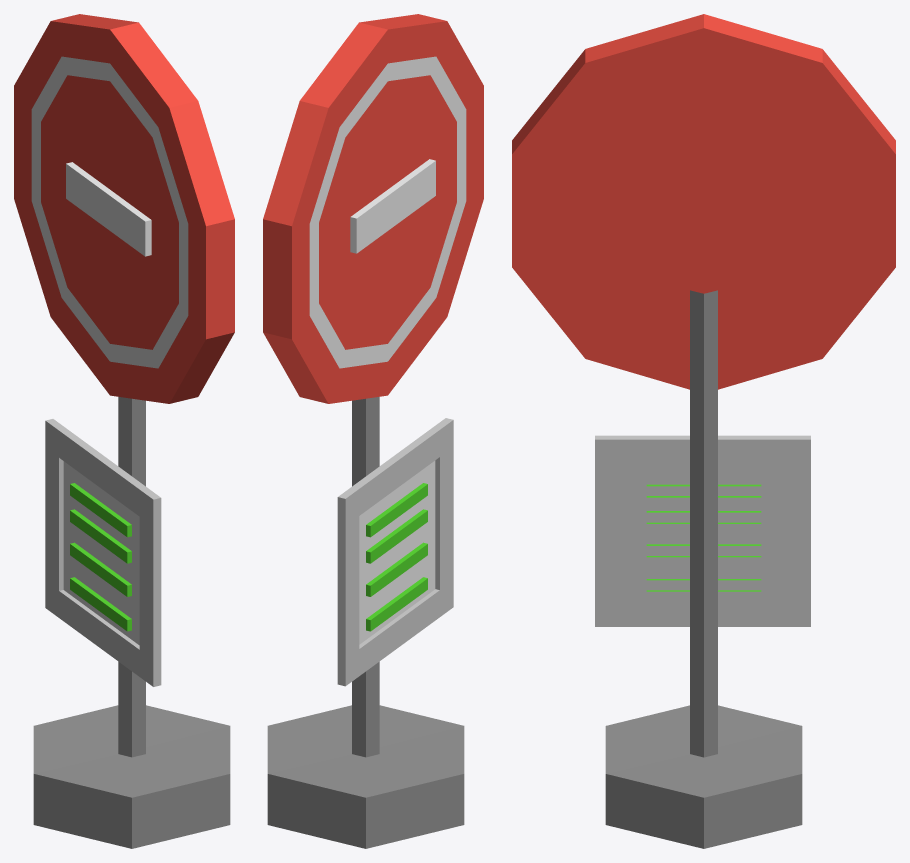
File: ggchezhan_03.FBX
3 views of the same model, side by side, from view 1: azimuth 30°, elevation 25°; view 2: azimuth 150°, elevation 25°; view 3: azimuth 270°, elevation 25° (orthographic).
Visible parts, largest first — view 1: ggchezhan_03; view 2: ggchezhan_03; view 3: ggchezhan_03.
Part boxes in pixels (x1,y1,x2,y2): ggchezhan_03: [14, 14, 234, 848]; ggchezhan_03: [263, 14, 483, 848]; ggchezhan_03: [512, 14, 895, 848].
Bounding box in the file's own units: 111 × 420 × 188.
